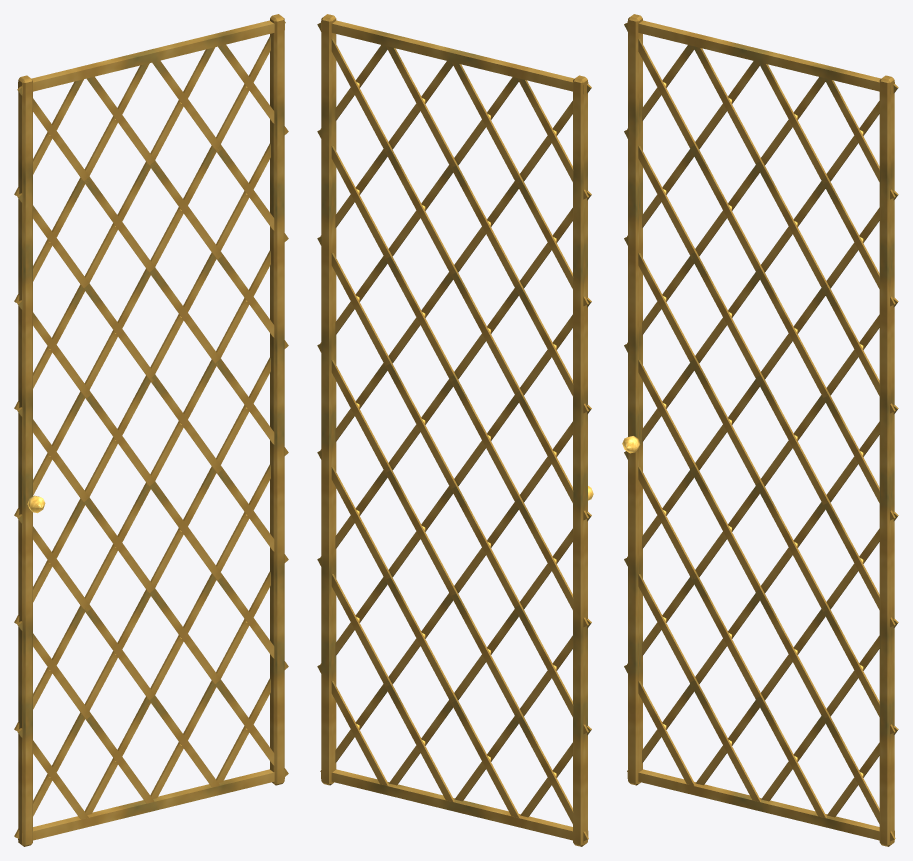
Rendered from sp_lift_cgate.glb.
3 renders of one model, left to right at view 1: azimuth 30°, elevation 25°; view 2: azimuth 150°, elevation 25°; view 3: azimuth 330°, elevation 25°, orthographic.
Visible parts, largest first — view 1: spire; view 2: spire; view 3: spire.
Part boxes in pixels (bbox=[...]): spire: bbox=[14, 14, 288, 846]; spire: bbox=[317, 14, 593, 846]; spire: bbox=[622, 14, 898, 846].
Bounding box in the file's own units: 1.24 × 3.35 × 0.125.
Materials: 2 (2 with a texture image).
